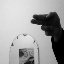h: (30, 11, 59, 35)
